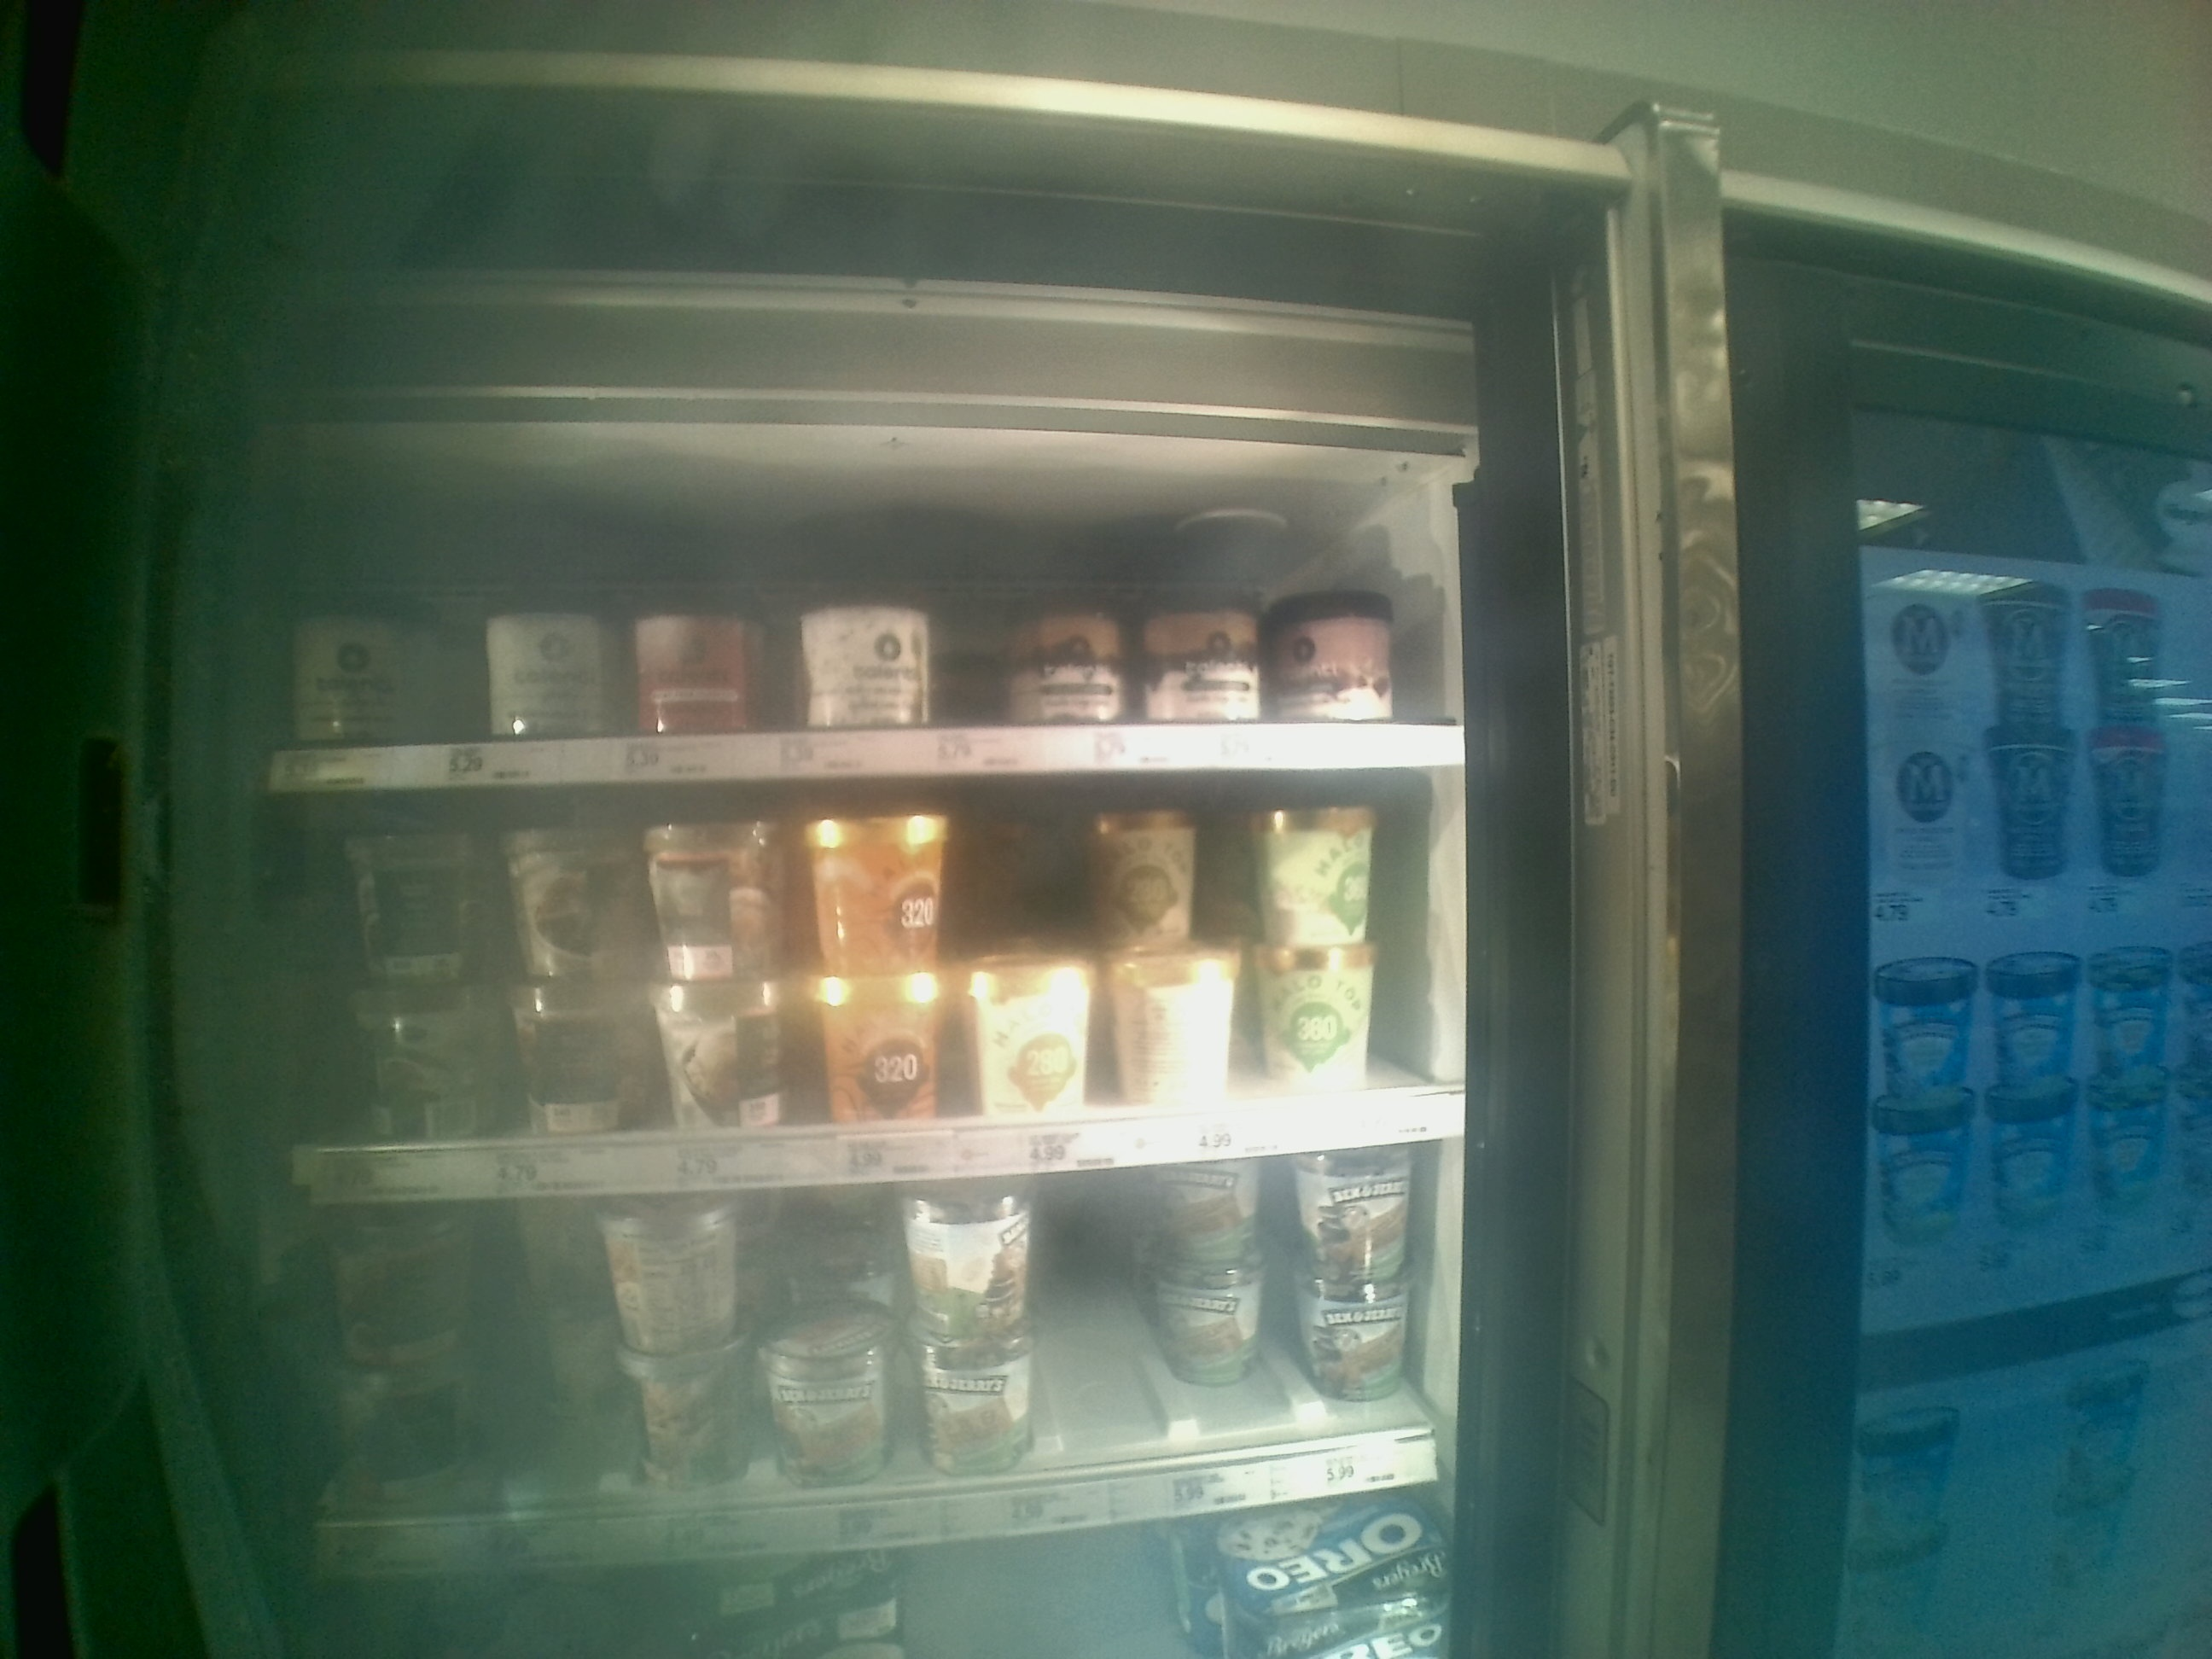ice-cream-shelf: (282, 791, 1474, 1175), (256, 458, 1461, 782)
